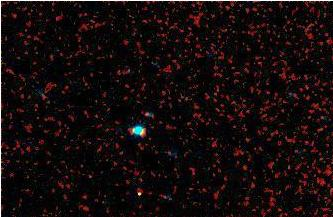star: (123, 178, 153, 208)
